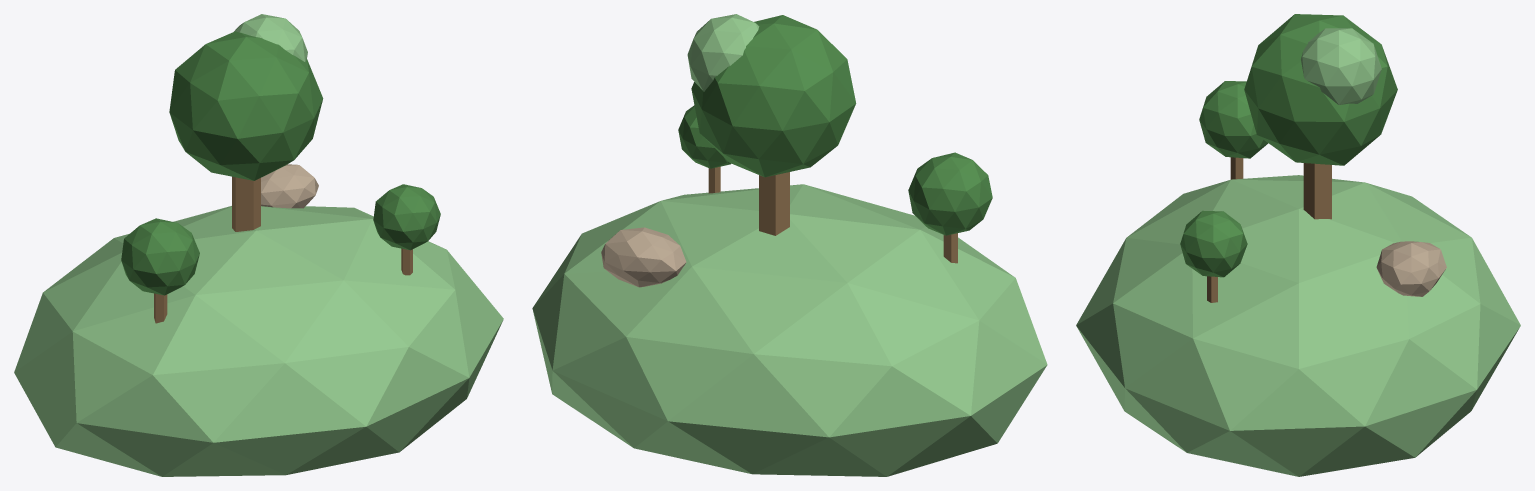
The model's file is hill-with-trees.glb.
The picture shows the model from 3 angles, left to right: view 1: azimuth 30°, elevation 25°; view 2: azimuth 150°, elevation 25°; view 3: azimuth 270°, elevation 25°; orthographic projection. The views are drawn at different scales.
Parts seen in each view (by area): view 1: forest-hill-with-trees; view 2: forest-hill-with-trees; view 3: forest-hill-with-trees.
Part boxes in pixels (left/top/right/bottom): forest-hill-with-trees: left=14, top=14, right=503, bottom=476; forest-hill-with-trees: left=532, top=14, right=1047, bottom=476; forest-hill-with-trees: left=1076, top=14, right=1520, bottom=476.
Bounding box in the file's own units: 2.44 × 1.99 × 2.18.
